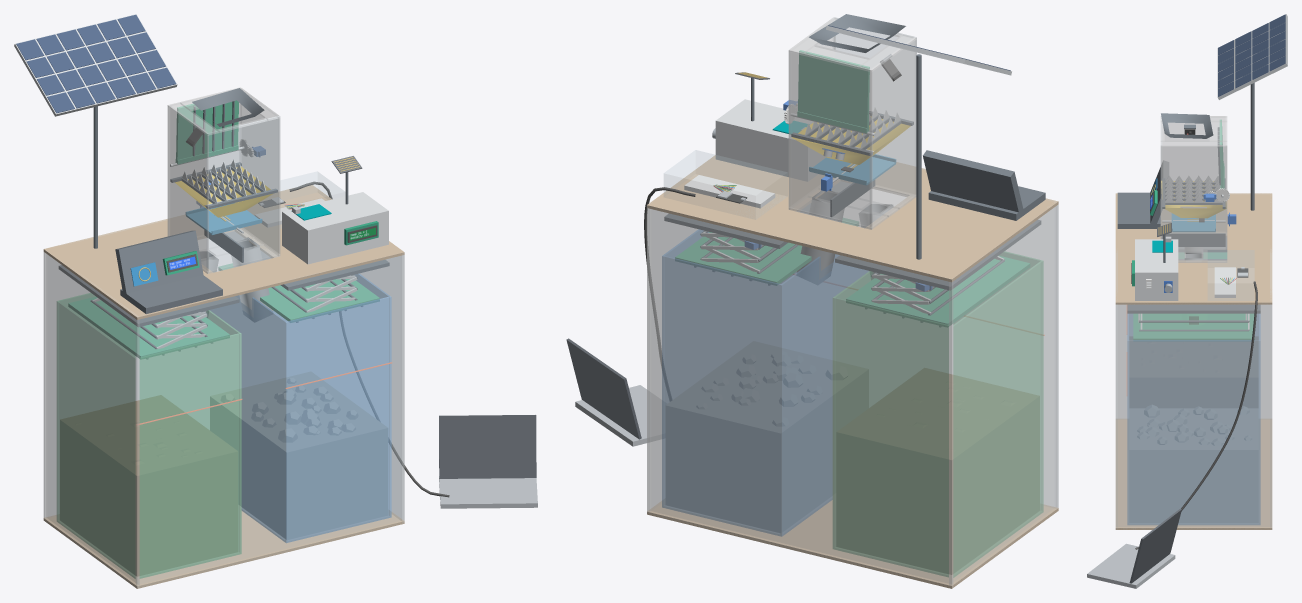
Rendered from smart_eco_station.glb.
3 renders of one model, left to right at view 1: azimuth 30°, elevation 25°; view 2: azimuth 150°, elevation 25°; view 3: azimuth 270°, elevation 25°, orthographic. The views are drawn at different scales.
Visible parts, largest first — view 1: Station_cabinet_660_x_400_x_640_, SmartEcoStation, WET_bin_left_, DRY_bin_right_, Solar_panel_display_only_, object 30, Computer_USB_powers_ESP32_, object 27, object 28, Scissor_compactor_each_bin_, Bag_splitter_press_blades_, object 29 (+7 smaller); view 2: Station_cabinet_660_x_400_x_640_, SmartEcoStation, WET_bin_left_, DRY_bin_right_, object 29, object 27, Computer_USB_powers_ESP32_, Bag_splitter_press_blades_, Scissor_compactor_each_bin_, object 15, object 28, Chutes_to_the_bins (+11 smaller); view 3: Station_cabinet_660_x_400_x_640_, SmartEcoStation, DRY_bin_right_, object 28, Solar_panel_display_only_, Computer_USB_powers_ESP32_, object 27, object 15, object 14, Moisture_sensor_on_SG90_flap, Drop_slot, object 40 (+4 smaller).
Part boxes in pixels (x1,y1,x2,y2): Station_cabinet_660_x_400_x_640_: (43,185,404,588); SmartEcoStation: (60,106,449,576); WET_bin_left_: (57,293,242,578); DRY_bin_right_: (210,273,392,542); Solar_panel_display_only_: (14,14,177,116); object 30: (207,116,279,272); Computer_USB_powers_ESP32_: (439,415,537,508); object 27: (168,105,208,273); object 28: (239,87,280,256); Scissor_compactor_each_bin_: (68,296,229,358); Bag_splitter_press_blades_: (170,100,244,166); object 29: (168,87,241,235); Station_cabinet_660_x_400_x_640_: (647,155,1058,588); SmartEcoStation: (644,54,1045,574); WET_bin_left_: (833,251,1044,577); DRY_bin_right_: (662,229,868,536); object 29: (789,50,872,229); object 27: (870,37,916,229); Computer_USB_powers_ESP32_: (566,338,665,446); Bag_splitter_press_blades_: (784,50,875,136); Scissor_compactor_each_bin_: (846,256,1030,326); object 15: (675,218,858,285); object 28: (789,17,835,209); Chutes_to_the_bins: (797,190,892,284); Station_cabinet_660_x_400_x_640_: (1115,193,1272,529); SmartEcoStation: (1117,83,1257,549); DRY_bin_right_: (1126,314,1260,524); object 28: (1160,145,1226,262); Solar_panel_display_only_: (1217,14,1287,99); Computer_USB_powers_ESP32_: (1087,508,1181,588); object 27: (1162,116,1226,231); object 15: (1133,313,1254,340); object 14: (1127,304,1260,313); Moisture_sensor_on_SG90_flap: (1162,212,1236,232); Drop_slot: (1161,113,1213,138); object 40: (1162,233,1225,246).
Size of the model in its own units: 1075 by 1121 by 512.
57 materials, 2 textured.
